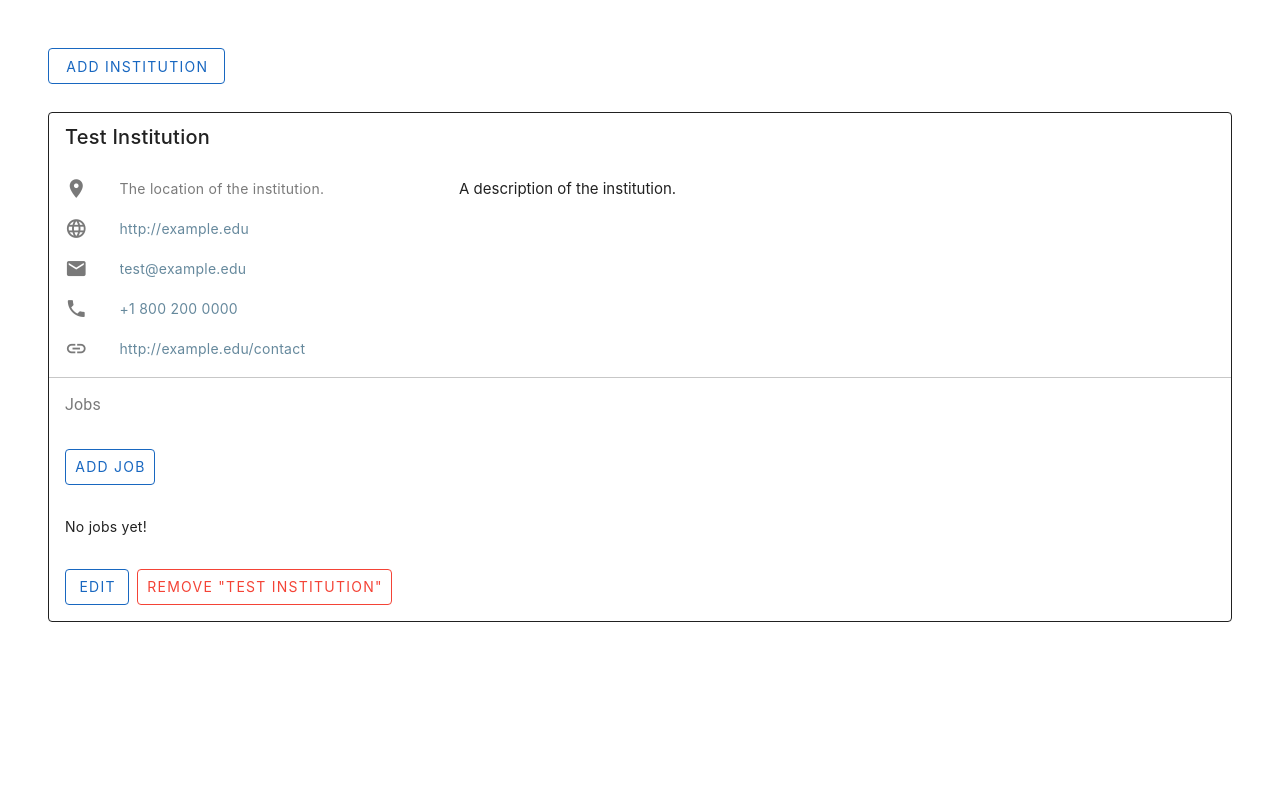
Test: HarvesterAdmin › with institutions › displays a dialog to confirm removing an institution when the appropriate button is clicked
Check: the text "This action will remove" is not shown
Click the button "Remove \"Test Institution\"": (264, 587) [137,569,392,605]
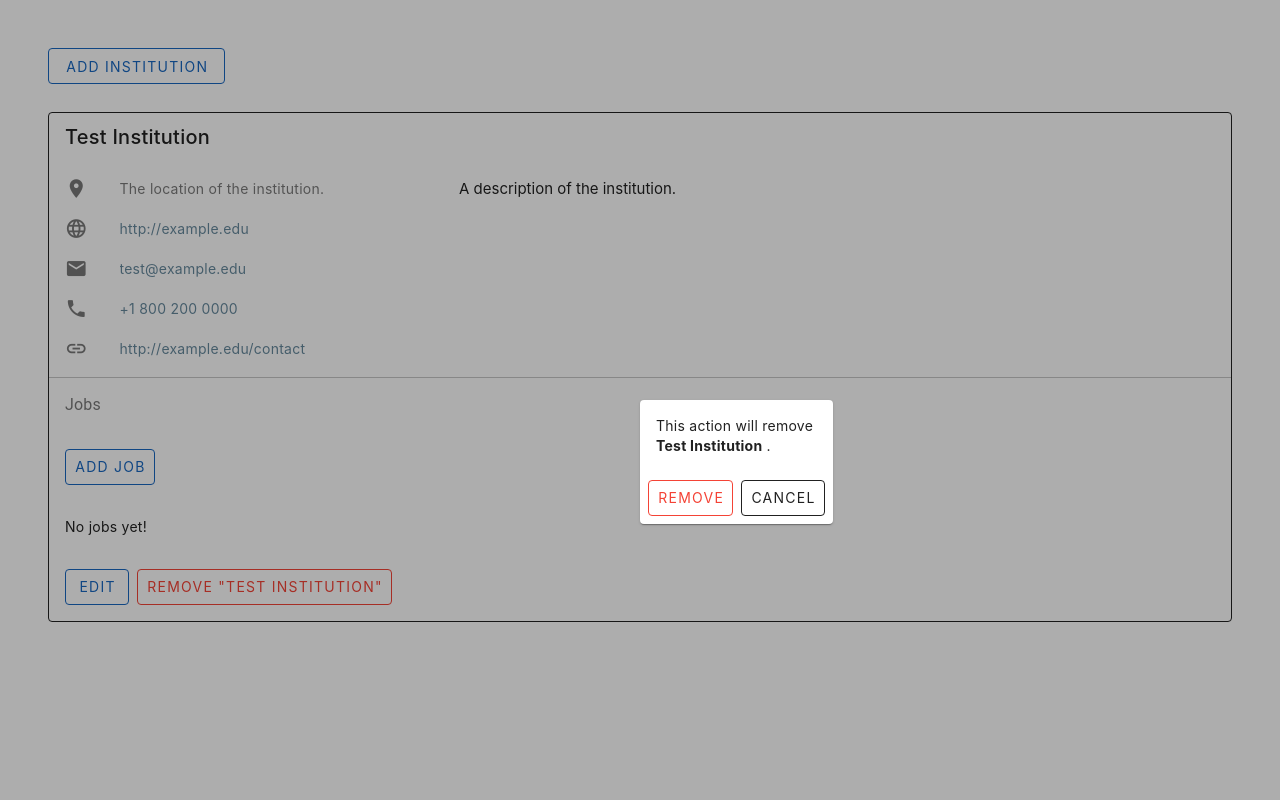
Check: the text "This action will remove" is shown, box [656,417,813,434]
